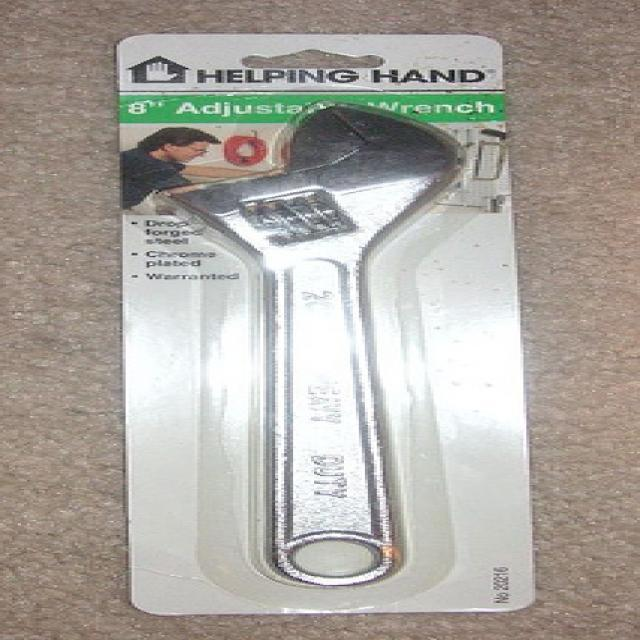wrench: (150, 96, 466, 594)
